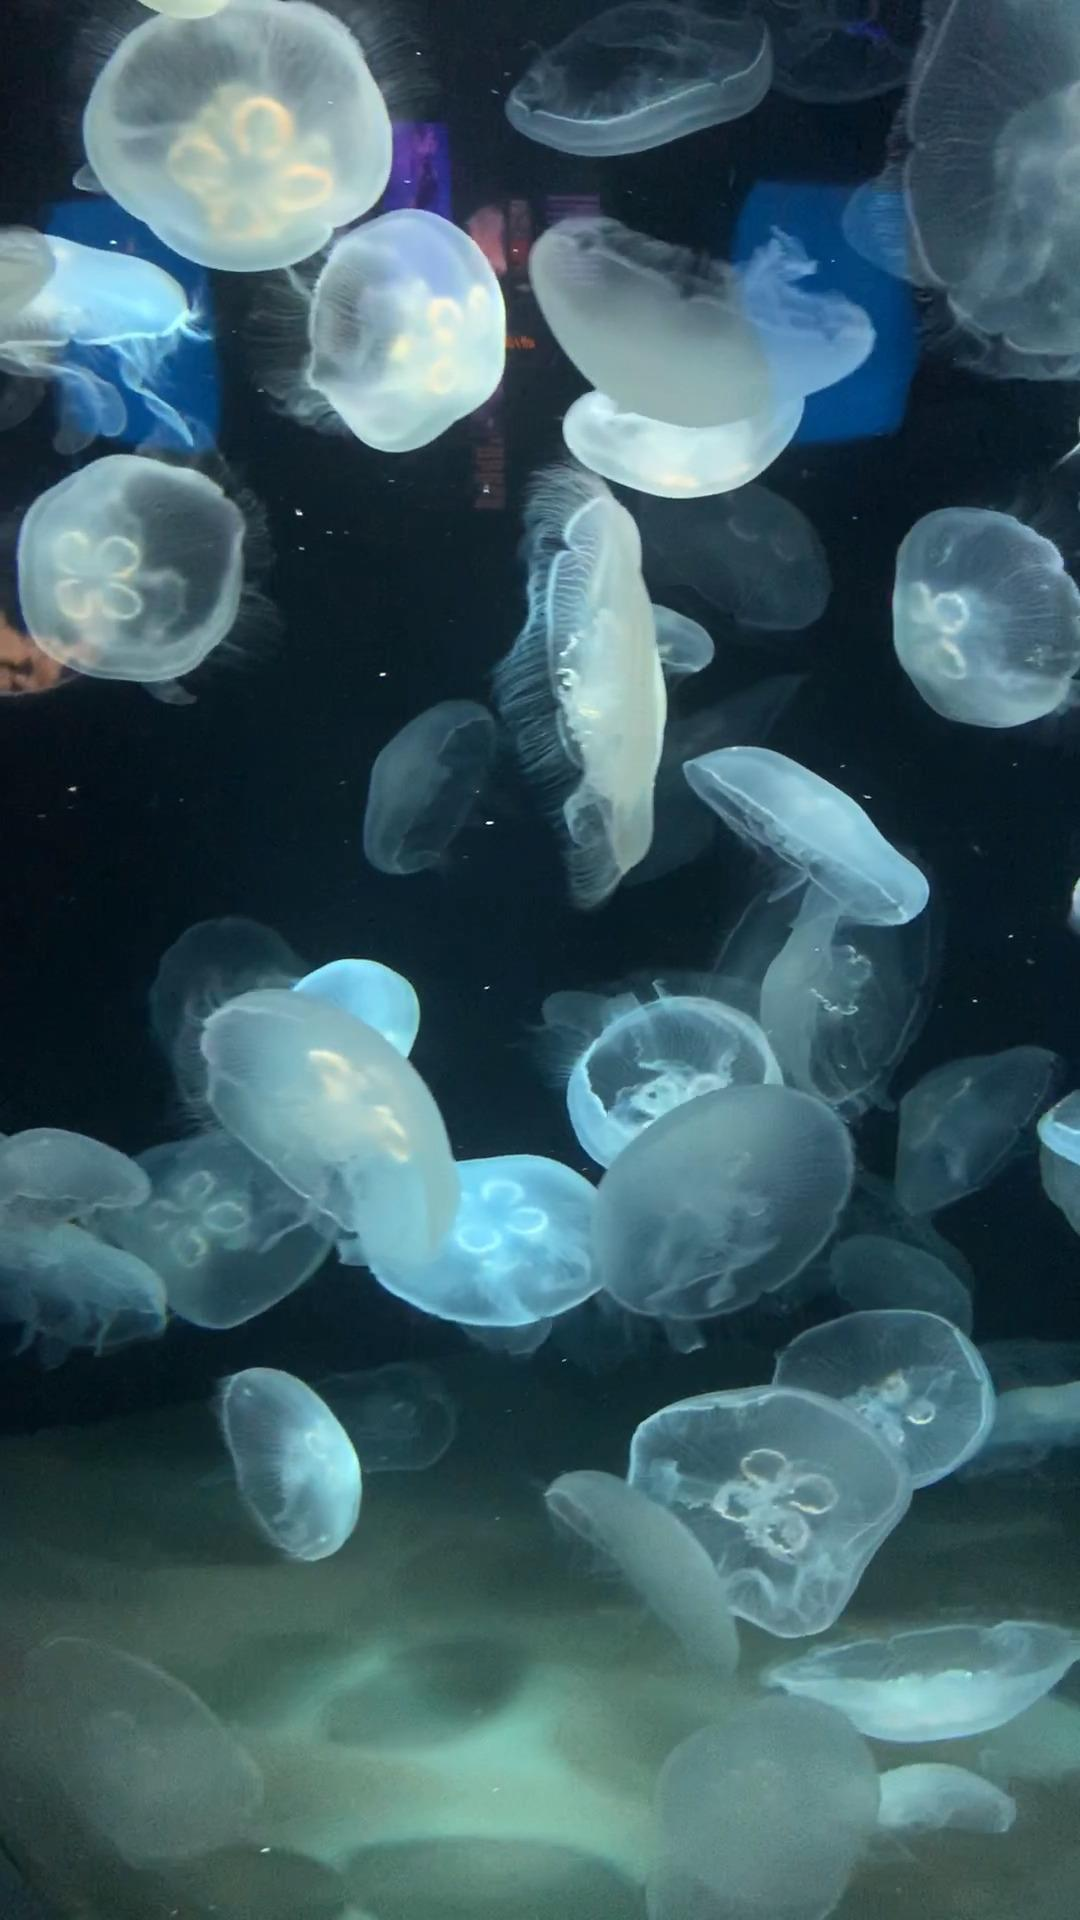jellyfish: (87, 5, 405, 272), (538, 210, 886, 430), (196, 981, 464, 1263), (629, 1393, 905, 1638), (906, 12, 1080, 376), (12, 439, 255, 699), (589, 1081, 851, 1312), (522, 488, 669, 899), (30, 1629, 272, 1876), (96, 1105, 340, 1335), (694, 744, 916, 993), (298, 210, 509, 458), (377, 1141, 624, 1344), (538, 1456, 757, 1681), (655, 1698, 873, 1913), (882, 501, 1080, 737), (509, 5, 773, 165), (771, 1298, 993, 1487), (775, 1606, 1068, 1741), (214, 1365, 375, 1577), (4, 200, 199, 375), (886, 1033, 1052, 1233), (566, 990, 770, 1151), (630, 472, 829, 636), (0, 1170, 181, 1344), (356, 682, 501, 881), (556, 386, 804, 502), (0, 1113, 149, 1228), (857, 1766, 1022, 1846), (328, 1391, 462, 1482), (630, 599, 715, 676), (1048, 1084, 1080, 1215)
